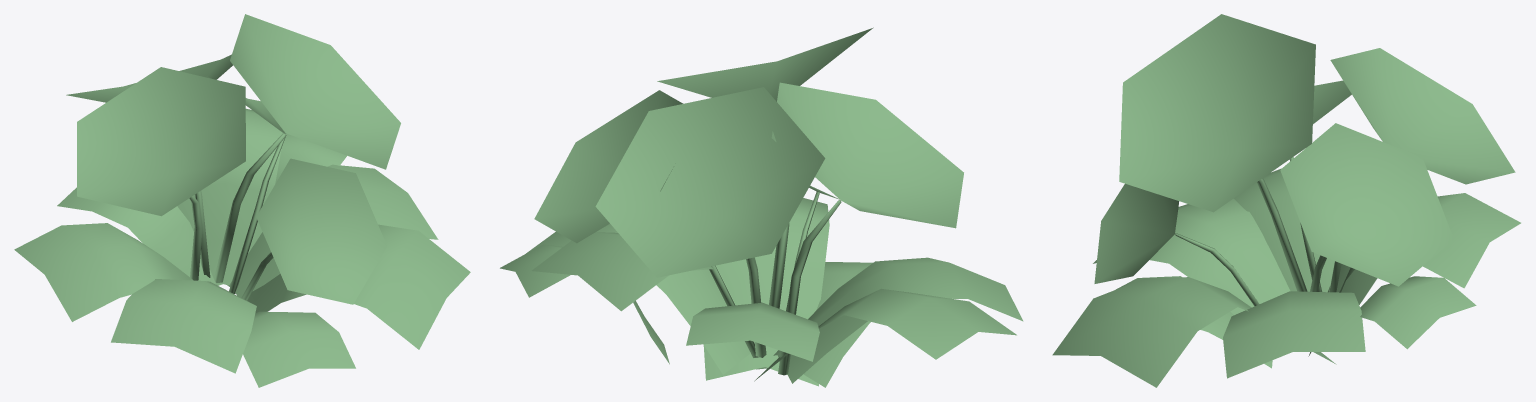
The model's file is roseshrub_1.glb.
3 renders of one model, left to right at view 1: azimuth 30°, elevation 25°; view 2: azimuth 150°, elevation 25°; view 3: azimuth 270°, elevation 25°, orthographic. The views are drawn at different scales.
Visible parts, largest first — view 1: Plant_Flowers_Plane.034; view 2: Plant_Flowers_Plane.034; view 3: Plant_Flowers_Plane.034.
Boxes of the visible parts, x1,y1,x2,y2 form: Plant_Flowers_Plane.034: (14,14,470,387); Plant_Flowers_Plane.034: (500,27,1023,387); Plant_Flowers_Plane.034: (1052,14,1520,387).
Bounding box in the file's own units: 1.48 × 1.18 × 1.53.
